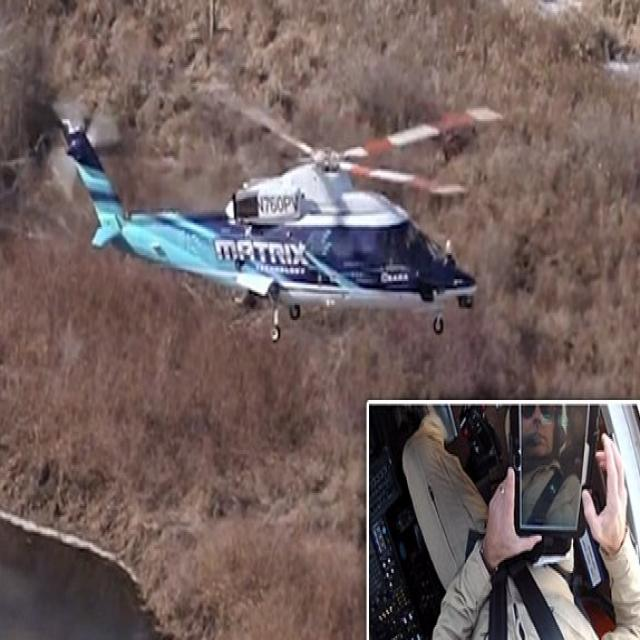helicopter: (55, 89, 509, 331)
